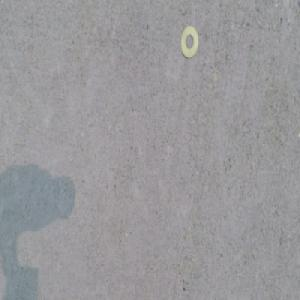Washer: (179, 25, 199, 56)
